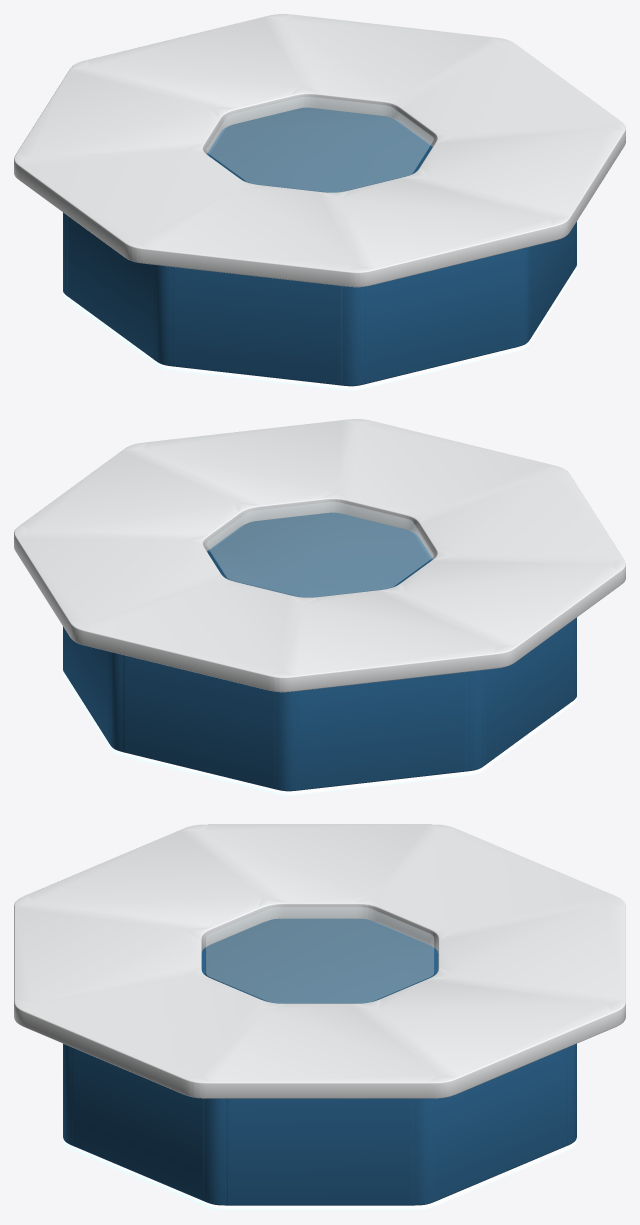
File: oct-table.glb
The picture shows the model from 3 angles, top to bottom: view 1: azimuth 30°, elevation 25°; view 2: azimuth 150°, elevation 25°; view 3: azimuth 270°, elevation 25°; orthographic projection. The views are drawn at different scales.
Parts seen in each view (by area): view 1: Top, Pedestal, WellGlass, Well, GlowTrim; view 2: Top, Pedestal, WellGlass, Well, GlowTrim; view 3: Top, Pedestal, WellGlass, Well, GlowTrim.
Boxes of the visible parts, x1=… form: Top: x1=14, y1=14, x2=625, y2=287; Pedestal: x1=63, y1=119, x2=576, y2=386; WellGlass: x1=206, y1=96, x2=433, y2=192; Well: x1=209, y1=107, x2=431, y2=192; GlowTrim: x1=63, y1=265, x2=576, y2=390; Top: x1=14, y1=419, x2=625, y2=692; Pedestal: x1=63, y1=524, x2=576, y2=791; WellGlass: x1=206, y1=501, x2=433, y2=597; Well: x1=208, y1=512, x2=430, y2=597; GlowTrim: x1=63, y1=670, x2=576, y2=795; Top: x1=14, y1=824, x2=625, y2=1098; Pedestal: x1=63, y1=922, x2=576, y2=1205; WellGlass: x1=206, y1=907, x2=433, y2=1003; Well: x1=205, y1=918, x2=434, y2=1003; GlowTrim: x1=63, y1=1138, x2=576, y2=1210.
Size of the model in its own units: 2.77 by 0.745 by 2.77.
